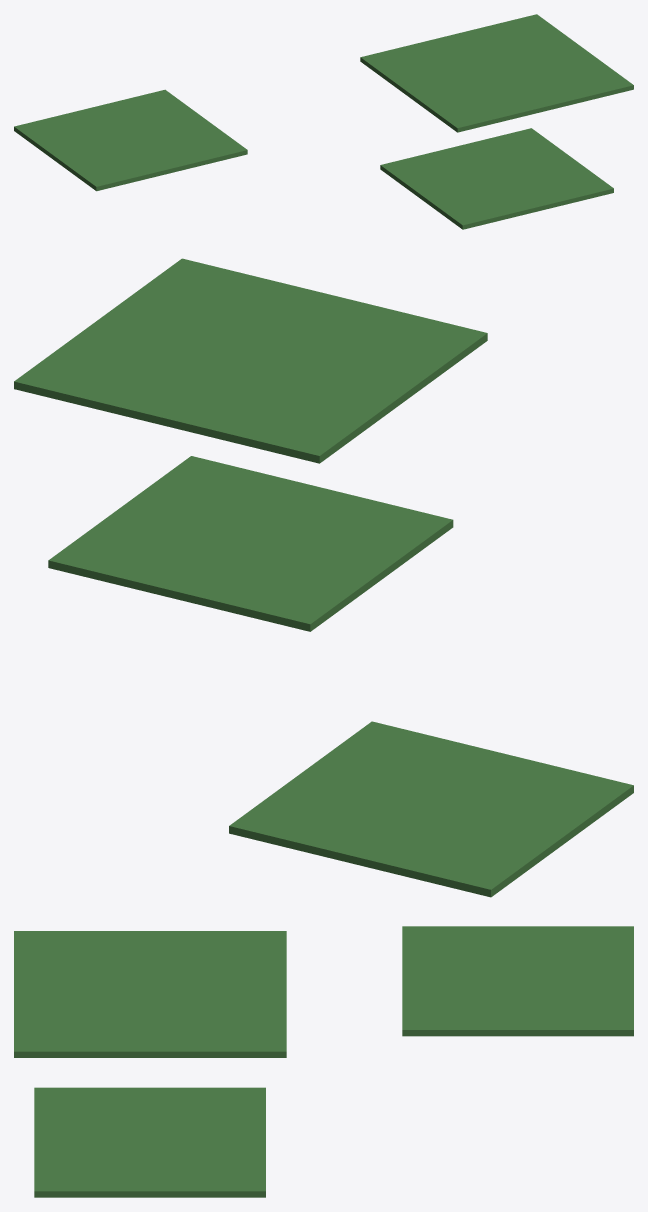
File: Catalog-63.glb
3 views of the same model, one above another, from view 1: azimuth 30°, elevation 25°; view 2: azimuth 150°, elevation 25°; view 3: azimuth 270°, elevation 25° (orthographic). The views are drawn at different scales.
Parts seen in each view (by area): view 1: Metropolis Green (×3); view 2: Metropolis Green (×3); view 3: Metropolis Green (×3).
Boxes of the visible parts, x1,y1,x2,y2 form: Metropolis Green (×3): (14,14,633,229); Metropolis Green (×3): (14,258,633,897); Metropolis Green (×3): (14,926,633,1197).
Size of the model in its own units: 95 by 25 by 91.
